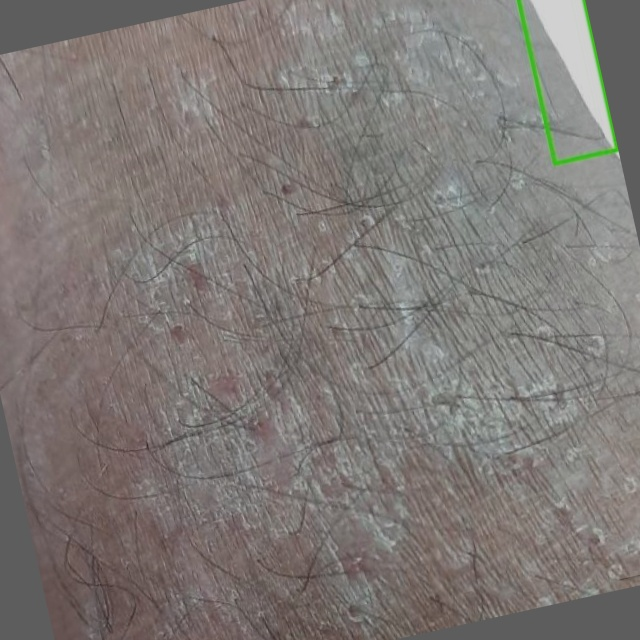Contact Dermatitis: (518, 0, 617, 163)
